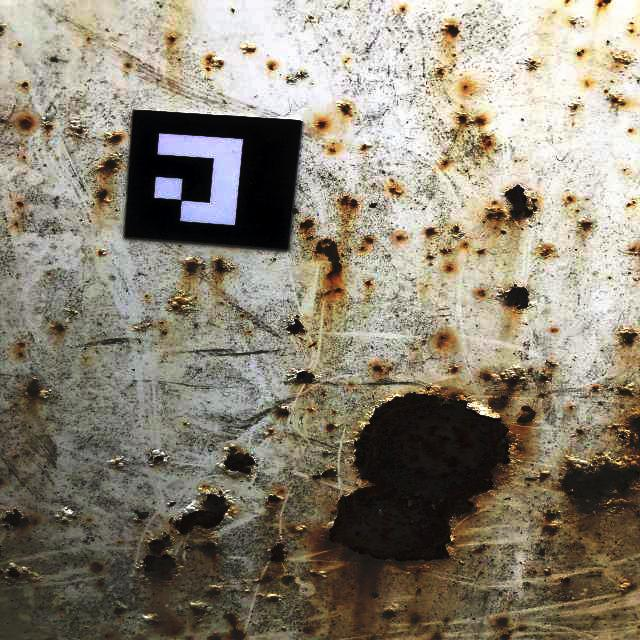Corrosion: (318, 383, 524, 576), (551, 406, 640, 517), (170, 484, 238, 537), (137, 530, 184, 582), (484, 183, 540, 224), (217, 444, 262, 481), (479, 364, 529, 393), (312, 237, 346, 277), (495, 283, 534, 310), (0, 563, 44, 586), (1, 507, 31, 529), (223, 612, 245, 640), (23, 378, 52, 399), (97, 151, 123, 174), (284, 369, 319, 385), (170, 291, 196, 312), (285, 313, 307, 335), (268, 541, 289, 564), (489, 394, 514, 411), (516, 405, 536, 425), (617, 327, 638, 346), (456, 111, 484, 125), (543, 511, 558, 535), (205, 54, 225, 72), (312, 466, 337, 480), (148, 449, 168, 466), (184, 257, 200, 276), (337, 100, 353, 119), (339, 194, 359, 209), (214, 258, 232, 274), (139, 613, 160, 626), (16, 116, 35, 130), (379, 608, 397, 622), (201, 541, 217, 556), (445, 22, 461, 37), (535, 468, 550, 483), (96, 188, 111, 203), (299, 218, 315, 232), (618, 579, 634, 593), (524, 57, 540, 71), (71, 122, 85, 138), (388, 184, 405, 197), (192, 602, 205, 618), (618, 383, 635, 395), (266, 494, 284, 505), (541, 245, 555, 258), (239, 45, 256, 55), (452, 225, 465, 238), (423, 226, 438, 237), (315, 119, 327, 131), (438, 334, 448, 348), (109, 132, 123, 142), (439, 246, 456, 254), (610, 97, 625, 106), (90, 561, 102, 572), (496, 617, 507, 629), (363, 234, 375, 245), (482, 134, 493, 146), (266, 60, 278, 71), (207, 587, 221, 596), (257, 575, 272, 583), (578, 219, 593, 227), (278, 408, 290, 417), (597, 0, 612, 7), (540, 374, 551, 383), (588, 385, 600, 393), (53, 323, 65, 331), (283, 574, 292, 584), (575, 428, 585, 436), (44, 121, 52, 131), (207, 635, 222, 640), (326, 422, 334, 431), (450, 364, 459, 372), (546, 361, 558, 367), (167, 500, 177, 507), (373, 364, 383, 371), (626, 200, 636, 207), (333, 287, 342, 294), (562, 577, 571, 584), (361, 143, 370, 150), (629, 23, 636, 32), (571, 15, 578, 24), (96, 249, 105, 256), (307, 342, 317, 348), (501, 633, 511, 639), (297, 72, 307, 78), (551, 328, 561, 334), (0, 22, 5, 34), (185, 544, 193, 551), (478, 289, 486, 296), (16, 350, 24, 357), (328, 148, 337, 154), (475, 547, 484, 553), (447, 265, 454, 272), (463, 241, 470, 248), (577, 50, 585, 56), (630, 246, 638, 252), (168, 34, 176, 40), (135, 518, 144, 523), (477, 249, 486, 254), (572, 104, 578, 111), (543, 570, 551, 575), (17, 342, 25, 347), (397, 235, 405, 240), (59, 519, 68, 523), (539, 394, 548, 398), (16, 201, 22, 207), (267, 429, 274, 434), (629, 127, 636, 132), (21, 81, 28, 86), (428, 254, 436, 258), (443, 160, 449, 165), (568, 196, 574, 201), (366, 281, 372, 286), (564, 0, 571, 4), (529, 369, 534, 374), (306, 236, 313, 239), (605, 88, 610, 92), (0, 118, 5, 122), (232, 8, 235, 14), (23, 156, 27, 159)
